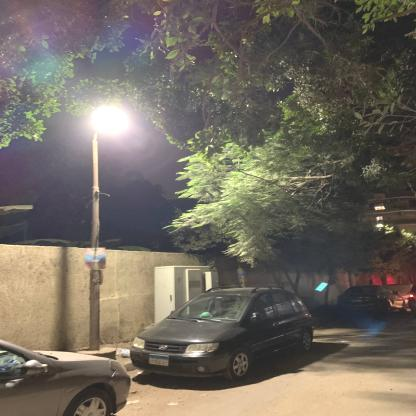light_pole: (88, 111, 124, 351)
